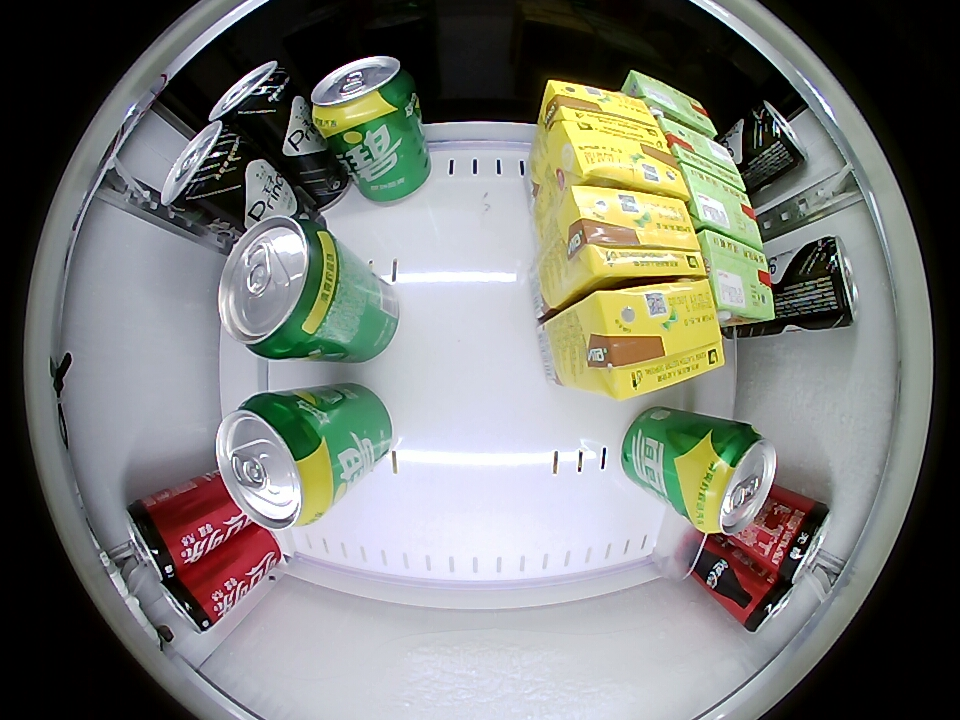lingdukele: (763, 495, 832, 583), (124, 494, 189, 582), (737, 572, 797, 633), (160, 574, 221, 633)
qingdaowangzi-1: (161, 120, 250, 218), (209, 61, 296, 134), (799, 236, 859, 330), (743, 100, 807, 174)
wanglaoji: (698, 228, 777, 323), (681, 164, 763, 247), (623, 70, 718, 139), (656, 115, 744, 188)
weitaningmeng: (576, 279, 726, 399), (558, 186, 705, 285), (554, 114, 690, 198), (541, 79, 665, 140)
xuebi2: (219, 217, 353, 360), (216, 392, 342, 530), (682, 423, 777, 536), (311, 56, 417, 136)
